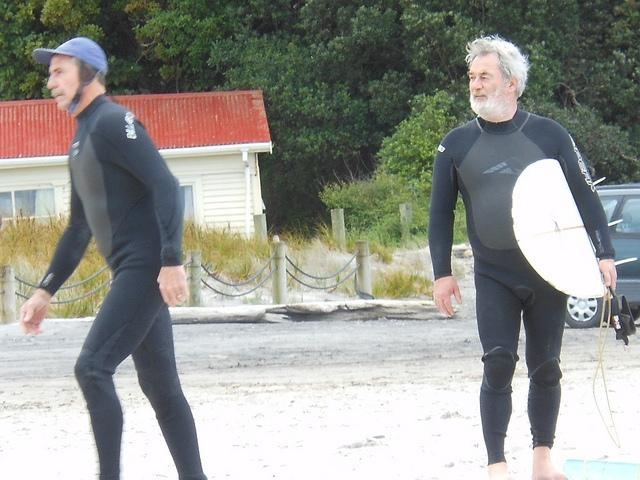car: (563, 185, 639, 330)
